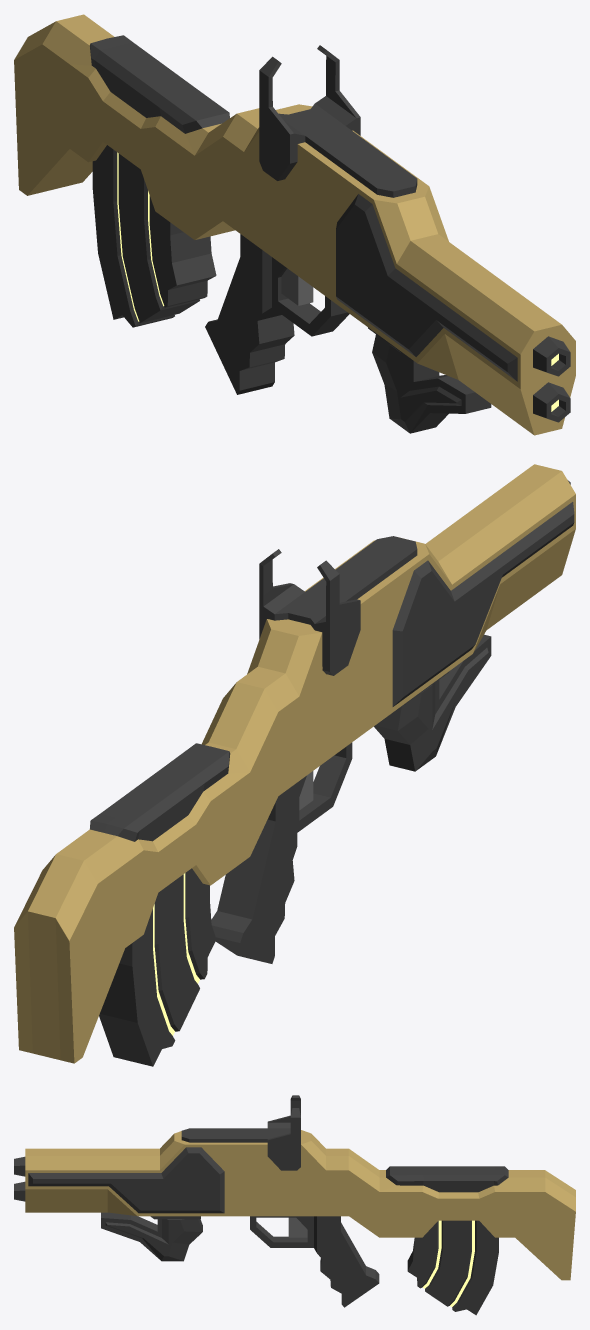
File: Bullpup.fbx
3 views of the same model, one above another, from view 1: azimuth 30°, elevation 25°; view 2: azimuth 150°, elevation 25°; view 3: azimuth 270°, elevation 25° (orthographic). The views are drawn at different scales.
Visible parts, largest first — view 1: Bullpup; view 2: Bullpup; view 3: Bullpup.
Boxes of the visible parts, bbox=[...] form: Bullpup: bbox=[14, 14, 575, 435]; Bullpup: bbox=[14, 464, 575, 1066]; Bullpup: bbox=[14, 1095, 575, 1315].
Size of the model in its own units: 51.2 by 265 by 647.
